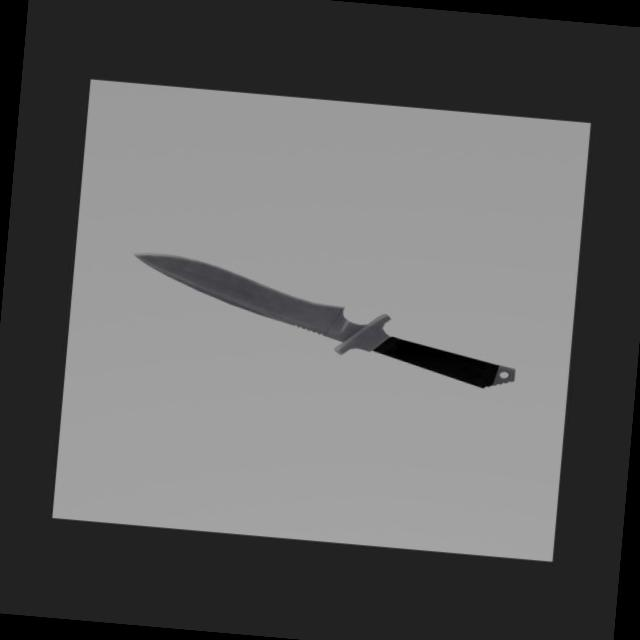knife: (369, 334, 516, 390)
